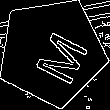M_NW: (19, 20, 85, 84)
